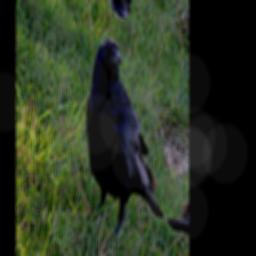Crow: (67, 27, 186, 256)
